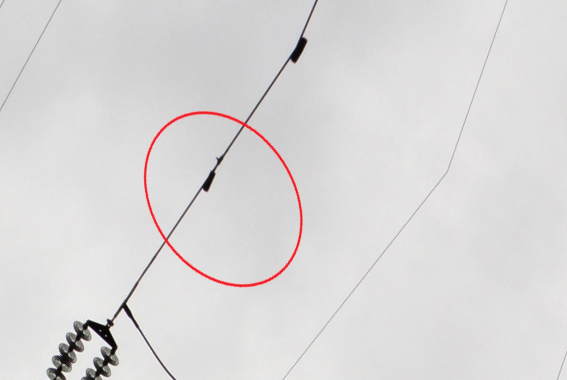damper_defect: (201, 149, 228, 194)
